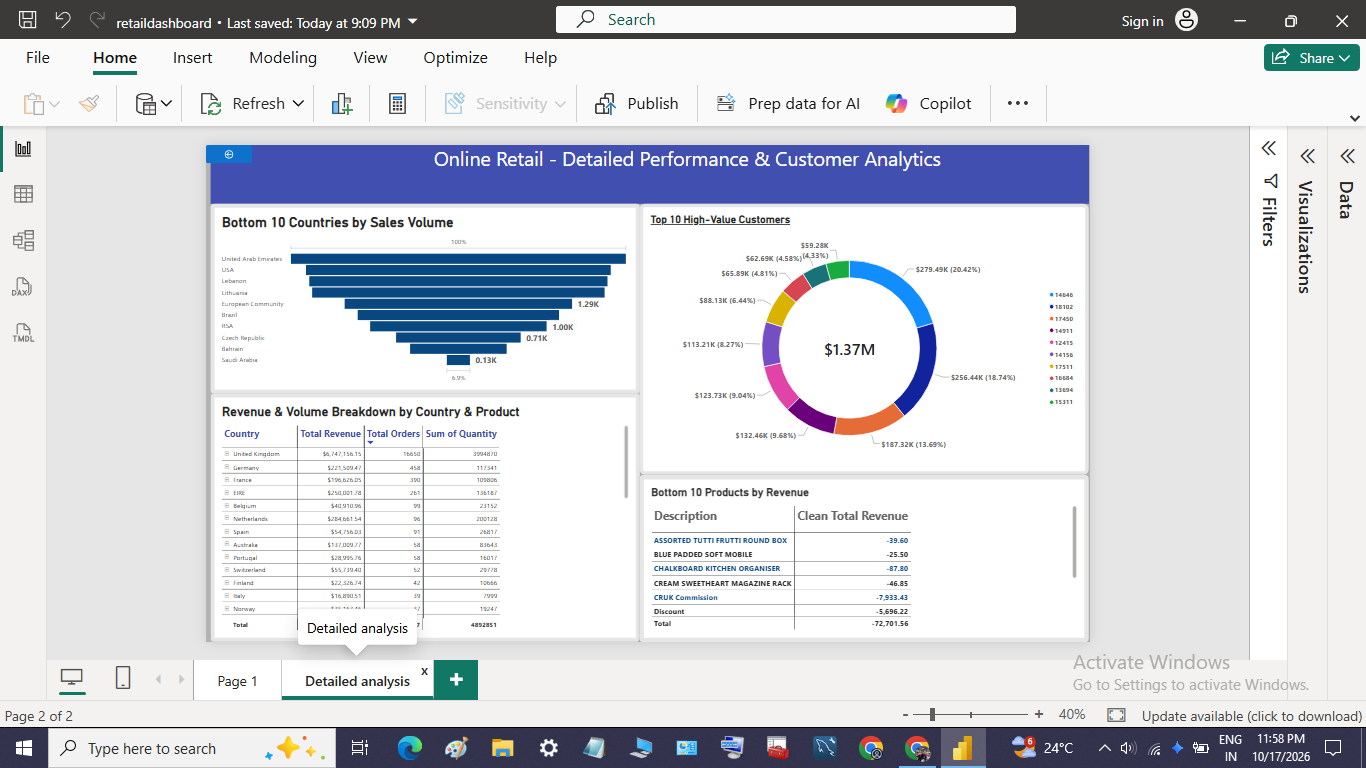

What the dashboard file says about the page in this screenshot:
{"tool":"powerbi","page":{"name":"Detailed analysis","canvas":[1920,1080],"ordinal":1},"visuals":[{"type":"textbox","box":[10.2,0,1909.2,127.5],"z":0},{"type":"pivotTable","title":"Revenue & Volume Breakdown by Country & Product","fields":{"Rows":["in.Country","in.Description"],"Values":["in.Total Revenue","in.Total Orders","Sum(in.Quantity)"]},"box":[10,540,933.3,540],"z":1000},{"type":"donutChart","title":"Top 10 High-Value Customers","fields":{"Category":["in.CustomerID"],"Y":["in.Total Revenue"]},"box":[943.1,128.1,976.4,589.4],"z":2000},{"type":"funnel","title":"Bottom 10 Countries by Sales Volume","fields":{"Category":["in.Country"],"Y":["in.Clean Total Revenue"]},"box":[10,126.7,933.3,413.3],"z":3000},{"type":"tableEx","title":"Bottom 10 Products by Revenue","fields":{"Values":["in.Description","in.Clean Total Revenue"]},"box":[943.3,716.7,976.7,363.3],"z":3001},{"type":"actionButton","box":[0,0,100,40],"z":3002}]}

Visuals, with their boxes on the page's 1920x1080 design canvas (x1, y1, x2, y2). These are canvas units, not pixel positions in the 1366x768 screenshot, which may show the page scaled, cropped or inside an application window:
textbox: rect(10, 0, 1919, 128)
"Revenue & Volume Breakdown by Country & Product" pivotTable: rect(10, 540, 943, 1080)
"Top 10 High-Value Customers" donutChart: rect(943, 128, 1920, 718)
"Bottom 10 Countries by Sales Volume" funnel: rect(10, 127, 943, 540)
"Bottom 10 Products by Revenue" tableEx: rect(943, 717, 1920, 1080)
actionButton: rect(0, 0, 100, 40)
